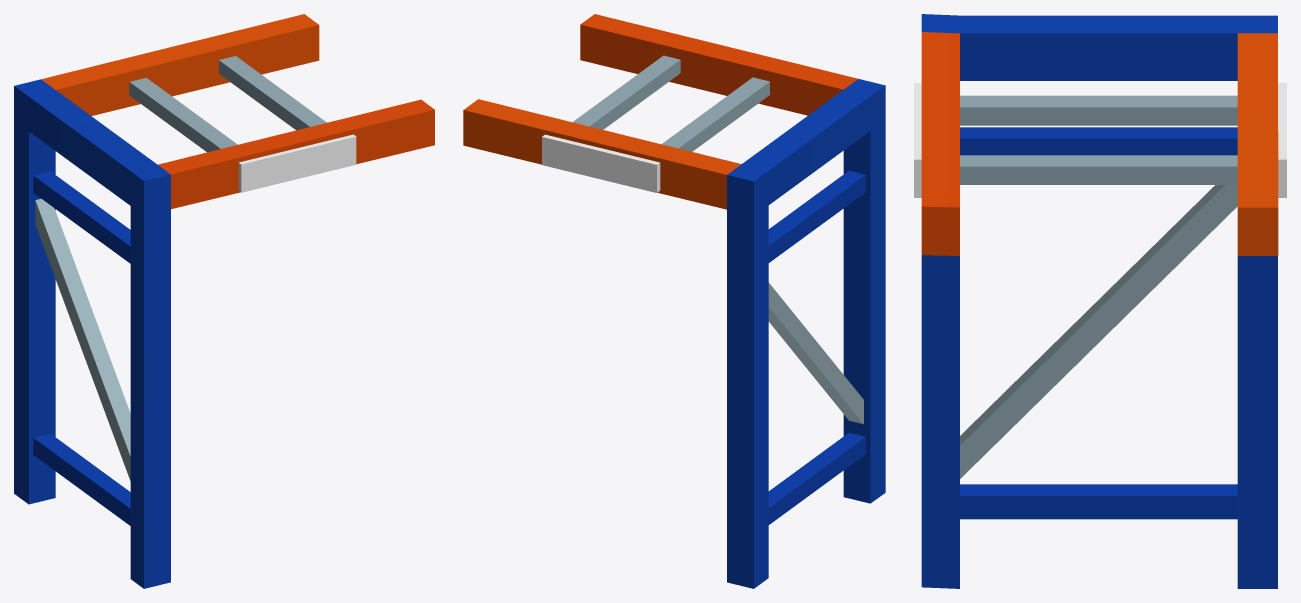
The model's file is ProtoRACK_HALF-BAY_2026.fbx.
3 renders of one model, left to right at view 1: azimuth 30°, elevation 25°; view 2: azimuth 150°, elevation 25°; view 3: azimuth 270°, elevation 25°, orthographic. The views are drawn at different scales.
Parts seen in each view (by area): view 1: ProtoRack, LabelFront; view 2: ProtoRack, LabelRear; view 3: ProtoRack, LabelRear, LabelFront.
Boxes of the visible parts, x1,y1,x2,y2 form: ProtoRack: [14, 14, 434, 588]; LabelFront: [238, 134, 356, 192]; ProtoRack: [463, 14, 885, 588]; LabelRear: [542, 134, 660, 192]; ProtoRack: [921, 14, 1278, 588]; LabelRear: [1278, 83, 1286, 197]; LabelFront: [914, 83, 921, 197].
Bounding box in the file's own units: 1.49 × 1.21 × 2.
